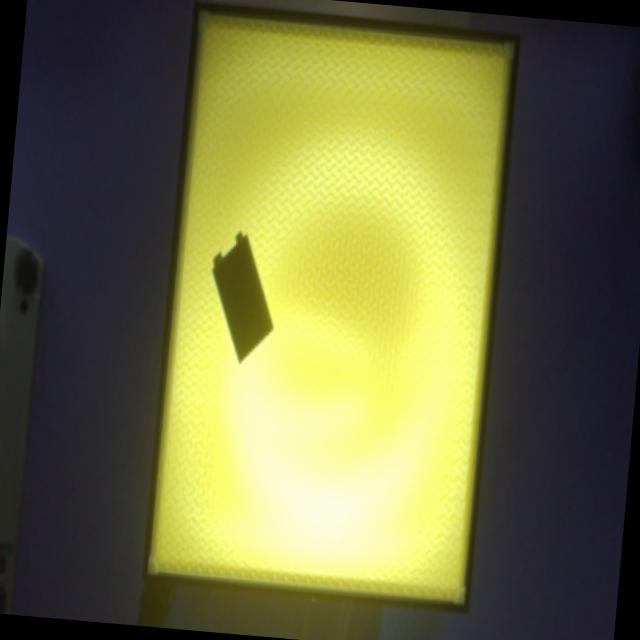bateria: (211, 231, 274, 363)
mesa: (142, 1, 520, 613)
